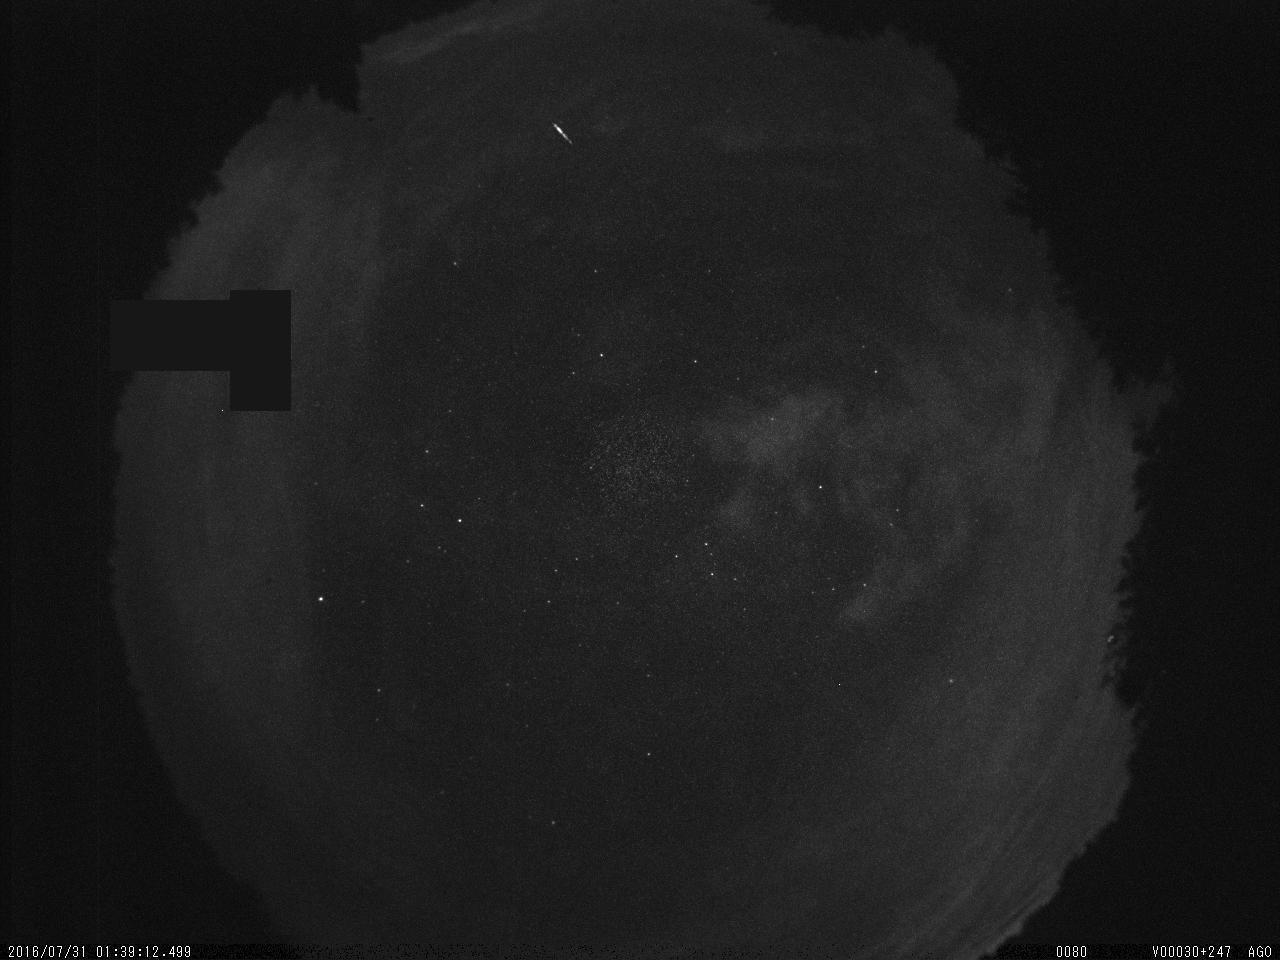meteor: (546, 116, 580, 152)
